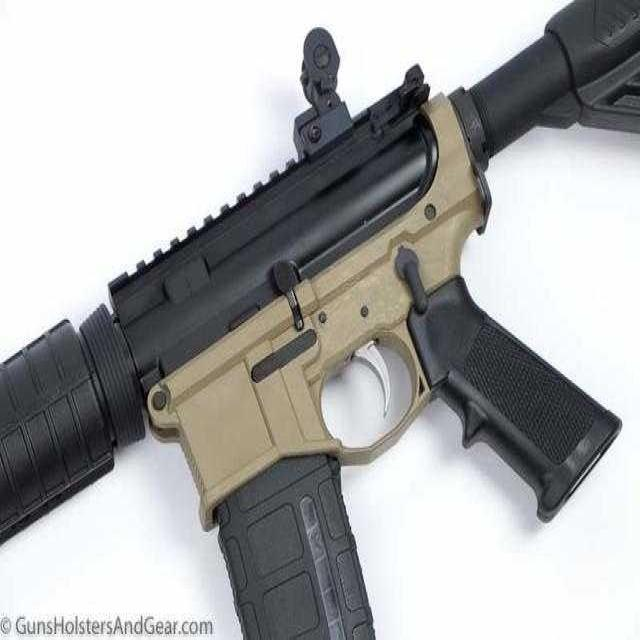heavyweapon: (1, 1, 637, 640)
